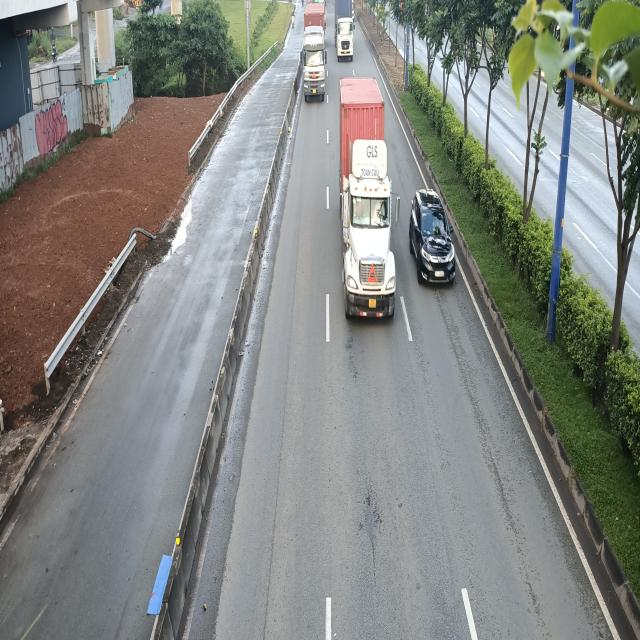car: (410, 187, 456, 287)
container: (339, 80, 398, 318), (300, 0, 326, 101), (336, 0, 356, 60)
